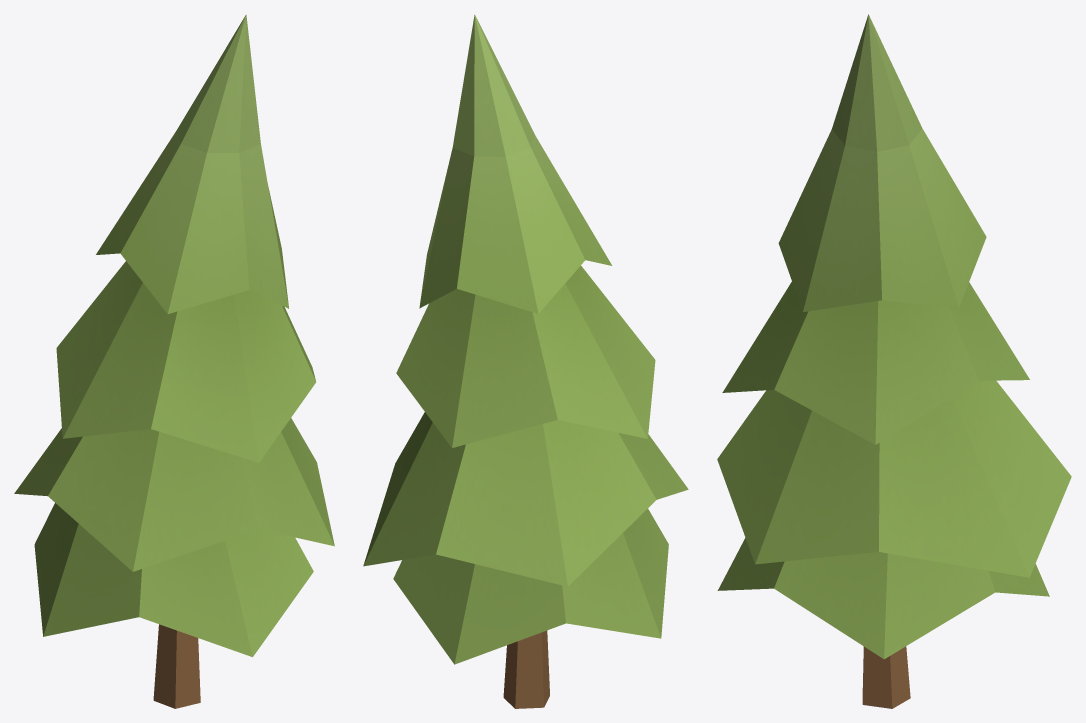
Rendered from Pine_Tree_OneSided_m_04_LOD.fbx.
3 renders of one model, left to right at view 1: azimuth 30°, elevation 25°; view 2: azimuth 150°, elevation 25°; view 3: azimuth 270°, elevation 25°, orthographic. The views are drawn at different scales.
Parts seen in each view (by area): view 1: Pine_Tree_OneSided_m_04_LOD0; view 2: Pine_Tree_OneSided_m_04_LOD0; view 3: Pine_Tree_OneSided_m_04_LOD0.
Part boxes in pixels (x1,y1,x2,y2): Pine_Tree_OneSided_m_04_LOD0: [14, 14, 334, 708]; Pine_Tree_OneSided_m_04_LOD0: [363, 14, 688, 708]; Pine_Tree_OneSided_m_04_LOD0: [717, 14, 1071, 708].
Size of what is drawn, in the model's own units: 409 by 970 by 435.
